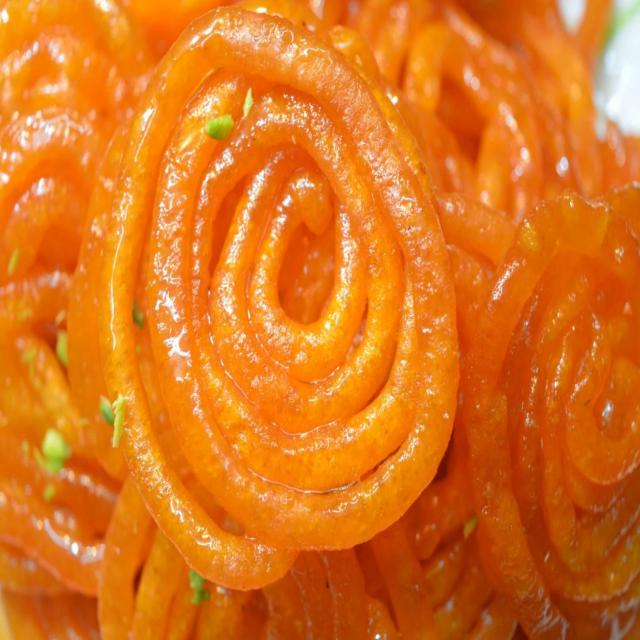jalebi: (2, 5, 634, 638)
